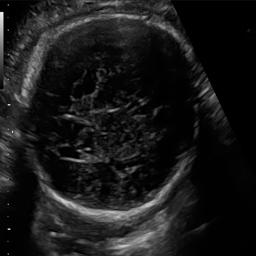normal: (20, 11, 203, 223)
